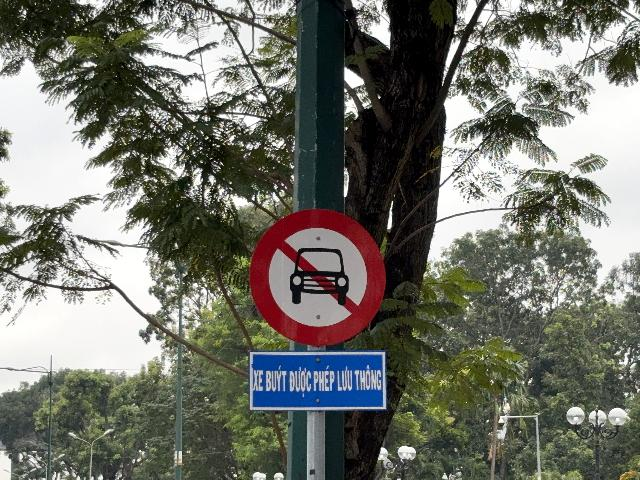cam-o-to: (250, 208, 386, 346)
